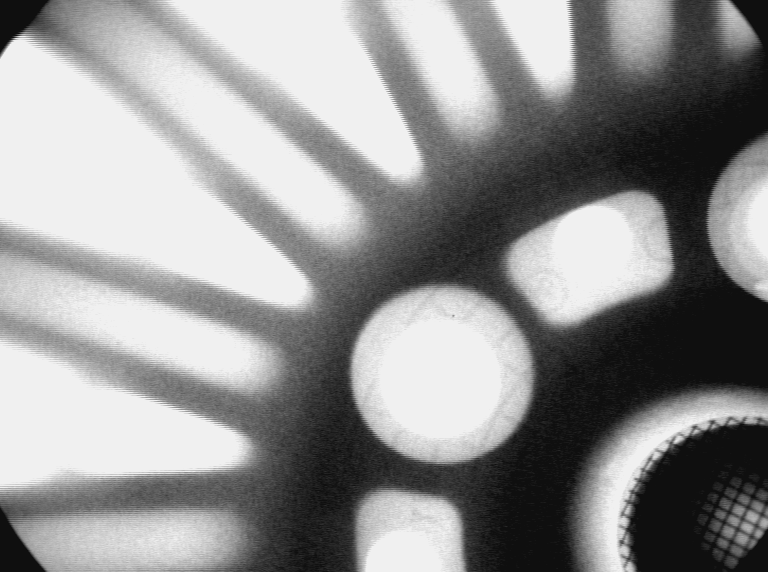defect: (754, 277, 766, 304)
